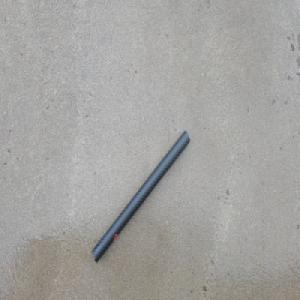LuggagePart: (92, 130, 190, 263)
